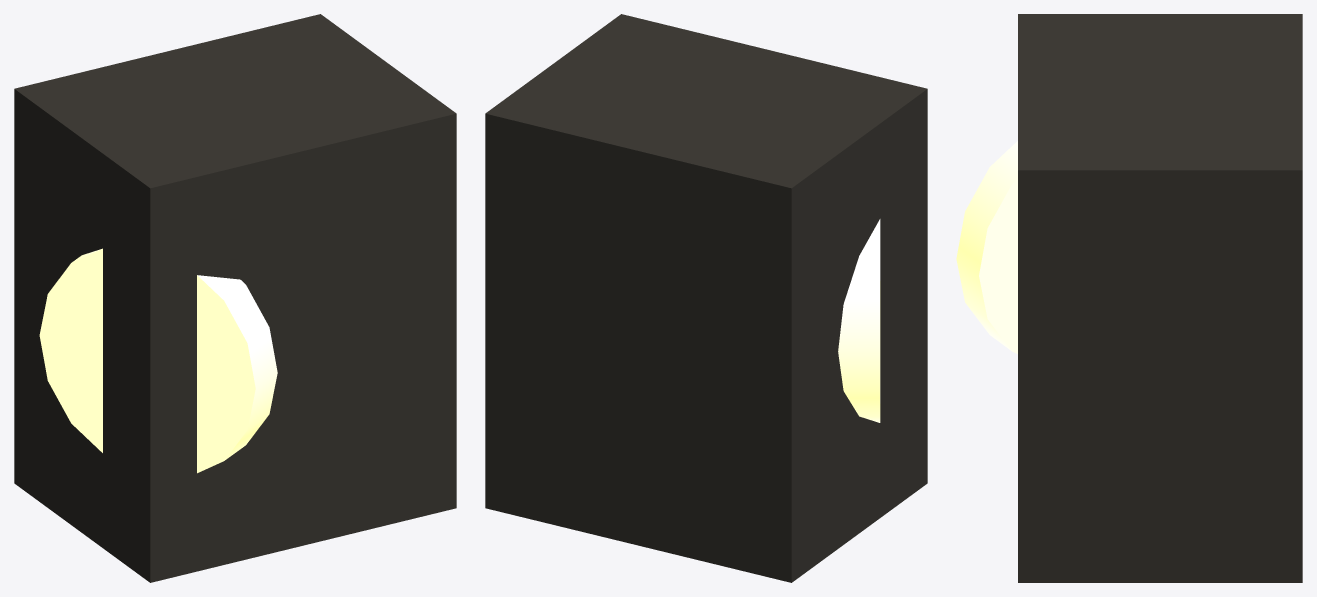
The model's file is light-stair-step-11.gltf.
3 views of the same model, side by side, from view 1: azimuth 30°, elevation 25°; view 2: azimuth 150°, elevation 25°; view 3: azimuth 270°, elevation 25° (orthographic). The views are drawn at different scales.
Parts seen in each view (by area): view 1: Stair shielded step lamp 11, Stair warm step lens 11; view 2: Stair shielded step lamp 11, Stair warm step lens 11; view 3: Stair shielded step lamp 11, Stair warm step lens 11.
Boxes of the visible parts, box(x1,y1,x2,y2) form: Stair shielded step lamp 11: box(14, 14, 456, 582); Stair warm step lens 11: box(39, 248, 277, 473); Stair shielded step lamp 11: box(485, 14, 927, 582); Stair warm step lens 11: box(838, 219, 880, 422); Stair shielded step lamp 11: box(1018, 14, 1302, 582); Stair warm step lens 11: box(956, 141, 1017, 353).
Bounding box in the file's own units: 0.0717 × 0.08 × 0.0608.
